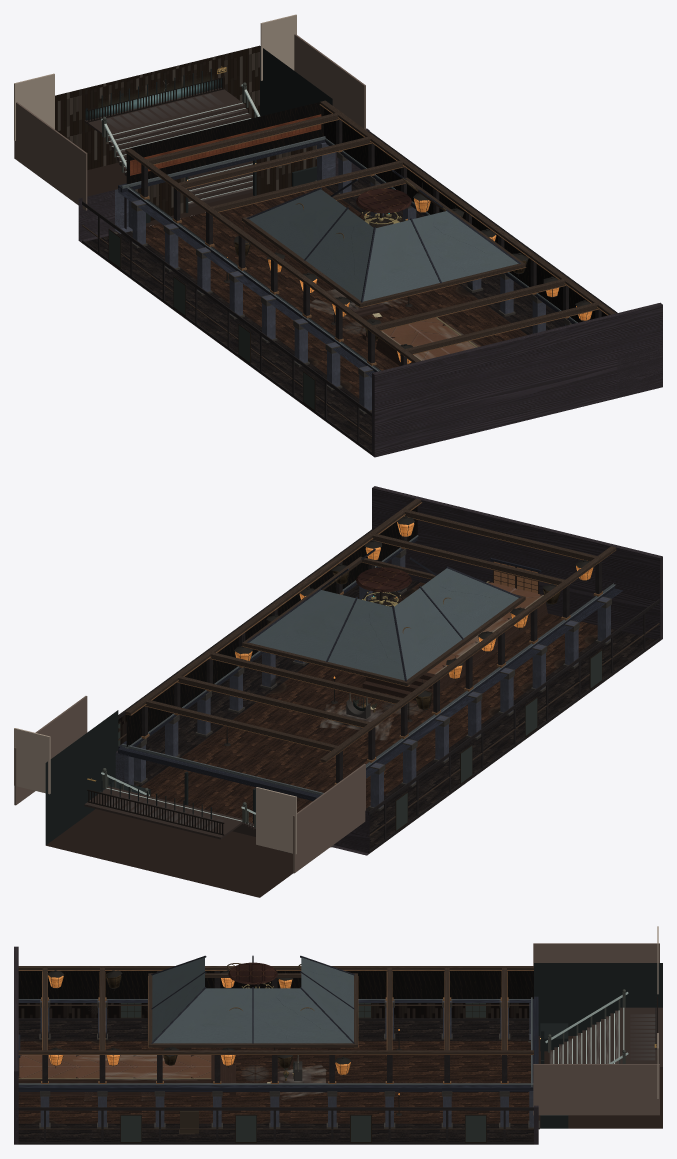
Rendered from haunted-mansion-1.glb.
The picture shows the model from 3 angles, top to bottom: view 1: azimuth 30°, elevation 25°; view 2: azimuth 150°, elevation 25°; view 3: azimuth 270°, elevation 25°; orthographic projection. The views are drawn at different scales.
Visible parts, largest first — view 1: object 18, object 96, object 22, object 6, object 7, void-cap (×2), object 75, object 15, object 98, object 80, object 12, object 14 (+17 smaller); view 2: object 6, object 18, object 96, object 22, object 7, object 77, void-cap (×2), object 12, object 98, object 74, object 14, object 15 (+14 smaller); view 3: object 6, object 22, object 7, object 96, void-cap, object 15, object 74, object 98, object 14, object 80, object 8, object 12 (+20 smaller).
Boxes of the visible parts, x1,y1,x2,y2 form: object 18: (78,128,662,457); object 96: (82,100,615,437); object 22: (249,185,518,301); object 6: (82,186,526,440); object 7: (81,176,564,454); void-cap (×2): (14,14,365,210); object 75: (55,45,316,220); object 15: (126,102,606,322); object 98: (82,119,616,454); object 80: (84,87,252,207); object 12: (115,142,566,411); object 14: (118,139,575,377); object 6: (141,582,659,851); object 18: (115,486,662,855); object 96: (118,498,659,836); object 22: (249,558,518,680); object 7: (134,580,659,852); object 77: (46,809,293,897); void-cap (×2): (14,696,365,873); object 12: (115,555,610,808); object 98: (118,516,659,853); object 74: (45,710,118,844); object 14: (118,537,622,800); object 15: (126,506,417,747); object 6: (18,1041,530,1123); object 22: (152,957,353,1043); object 7: (18,1020,533,1144); object 96: (18,966,533,1129); void-cap: (533,943,659,1115); object 15: (18,971,533,998); object 74: (534,963,662,1035); object 98: (18,971,533,1144); object 14: (18,996,538,1091); object 80: (549,1007,662,1068); object 8: (18,1055,211,1078); object 12: (40,1000,533,1127).
Size of what is drawn, in the model's own units: 19 by 8.02 by 41.8.
103 materials, 50 textured.
